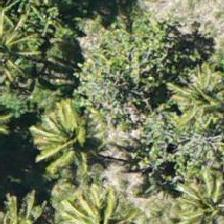coconut_tree: (23, 78, 113, 168), (162, 41, 223, 131), (162, 170, 223, 223)
